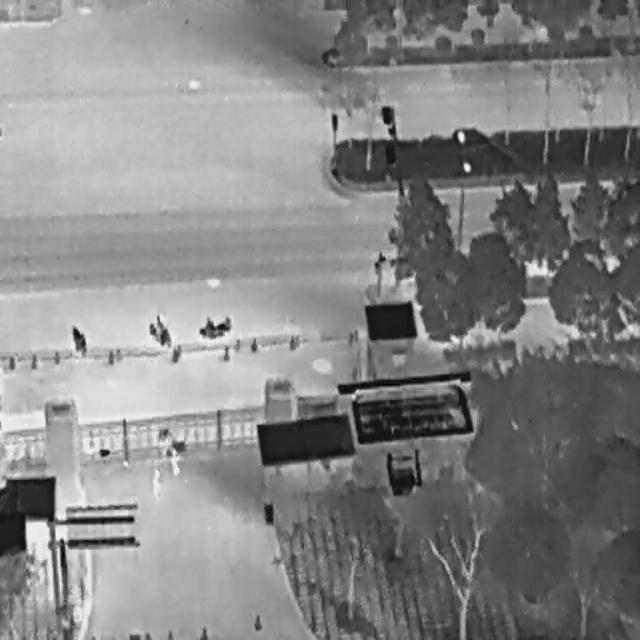Bicycle: (144, 312, 176, 352), (65, 319, 91, 359), (196, 314, 231, 338)
Person: (168, 449, 181, 476), (150, 469, 161, 496), (158, 432, 168, 457)
